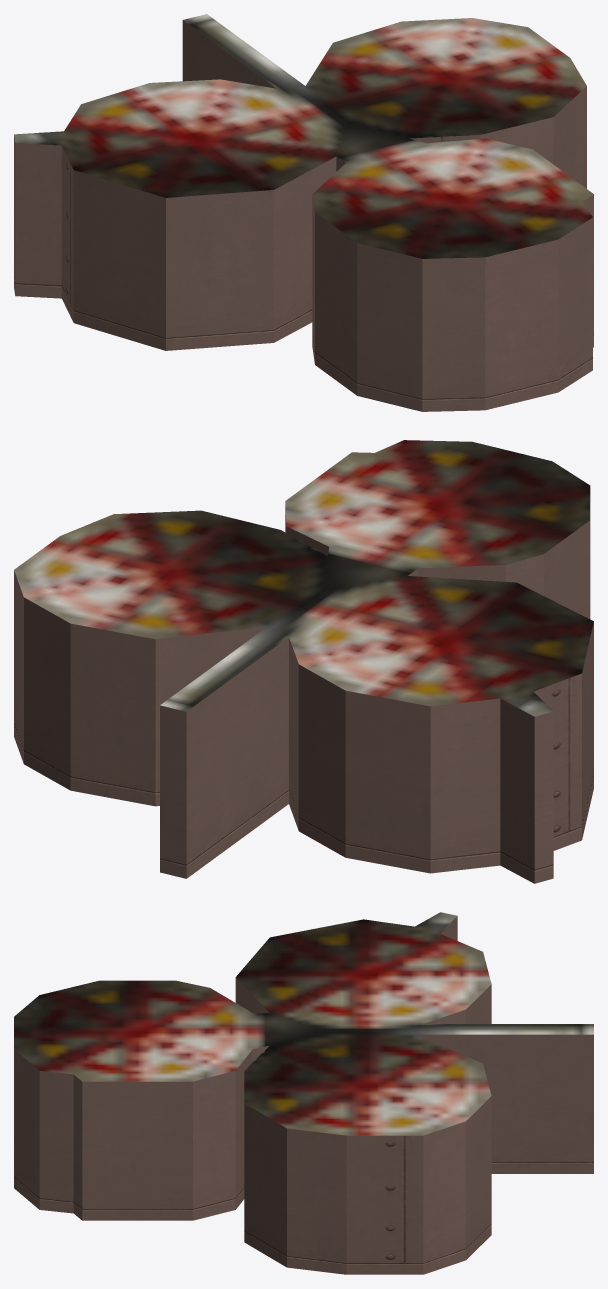
The model's file is fuel_tank_heavy_33.glb.
The picture shows the model from 3 angles, top to bottom: view 1: azimuth 30°, elevation 25°; view 2: azimuth 150°, elevation 25°; view 3: azimuth 270°, elevation 25°; orthographic projection. The views are drawn at different scales.
Parts seen in each view (by area): view 1: buildings/saxarba/fuel_tanks/fuel_tank_heavy_33; view 2: buildings/saxarba/fuel_tanks/fuel_tank_heavy_33; view 3: buildings/saxarba/fuel_tanks/fuel_tank_heavy_33.
Boxes of the visible parts, x1,y1,x2,y2 form: buildings/saxarba/fuel_tanks/fuel_tank_heavy_33: [14, 14, 593, 411]; buildings/saxarba/fuel_tanks/fuel_tank_heavy_33: [14, 440, 593, 883]; buildings/saxarba/fuel_tanks/fuel_tank_heavy_33: [14, 912, 593, 1274].
Size of the model in its own units: 62 by 18 by 68.
